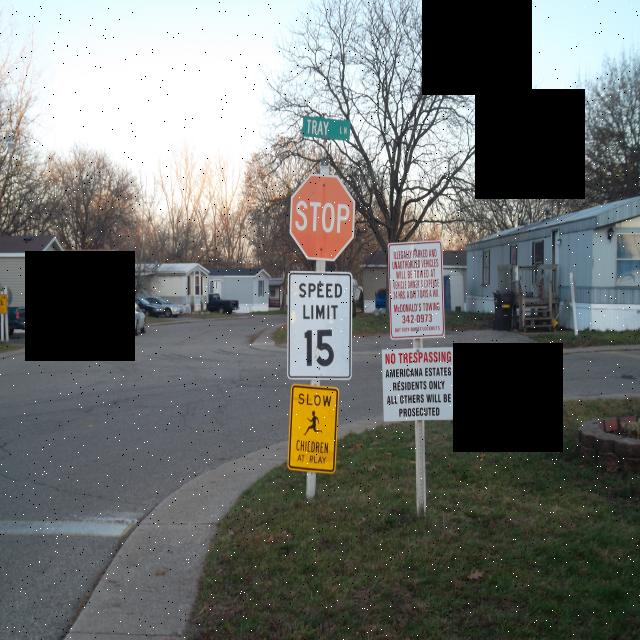regulatory: (282, 264, 357, 386), (386, 242, 448, 341)
stop: (286, 171, 358, 266)
warning: (283, 379, 344, 476)
